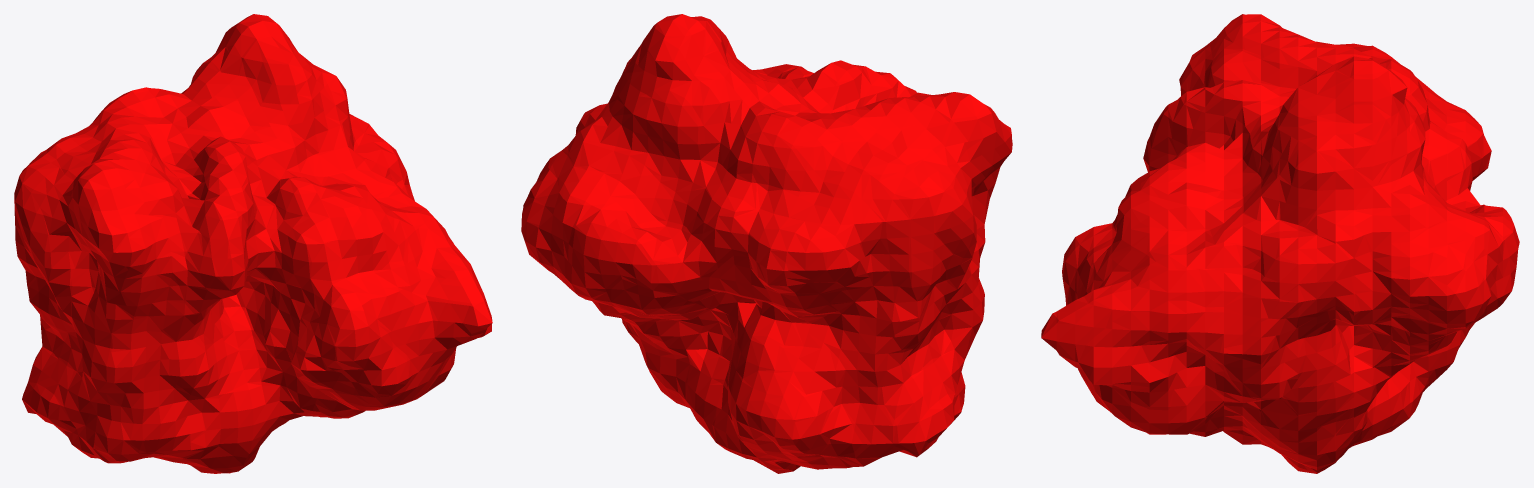
The model's file is gltB_coarse.dae.
The picture shows the model from 3 angles, left to right: view 1: azimuth 30°, elevation 25°; view 2: azimuth 150°, elevation 25°; view 3: azimuth 270°, elevation 25°; orthographic projection. The views are drawn at different scales.
Visible parts, largest first — view 1: gltB; view 2: gltB; view 3: gltB.
Part boxes in pixels (<box>): gltB: <box>14,14,492,473</box>; gltB: <box>521,14,1012,473</box>; gltB: <box>1041,14,1519,473</box>.
Size of the model in its own units: 90.69 by 98.38 by 95.09.
